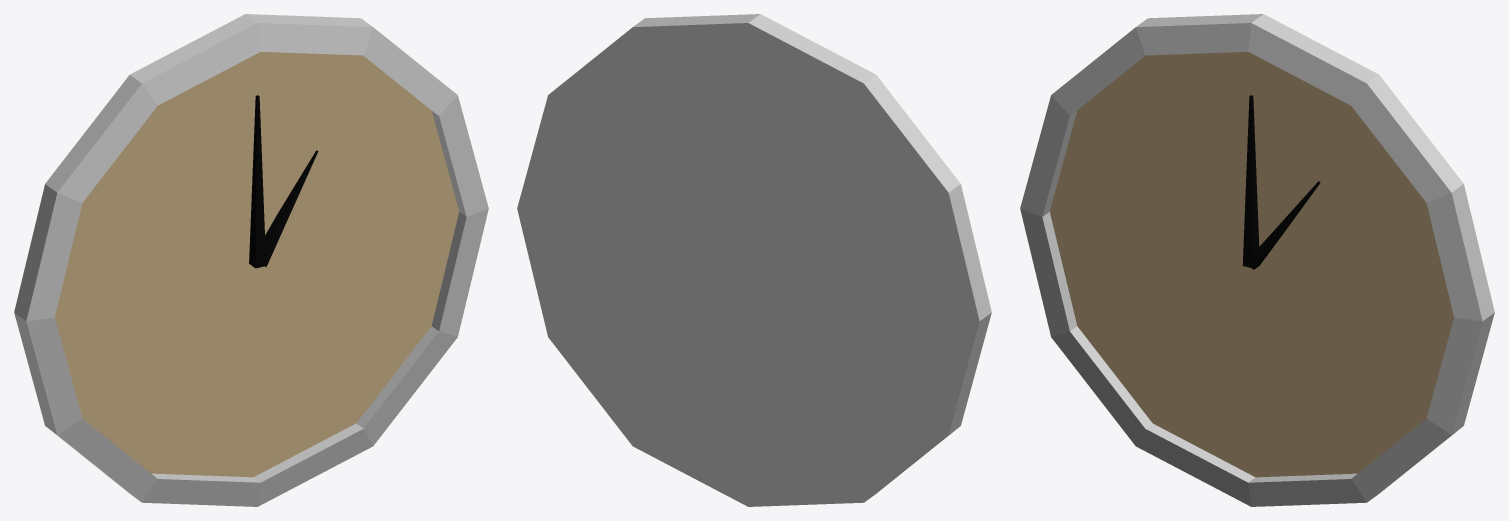
Rendered from Jam dinding.fbx.
The picture shows the model from 3 angles, left to right: view 1: azimuth 30°, elevation 25°; view 2: azimuth 150°, elevation 25°; view 3: azimuth 330°, elevation 25°; orthographic projection.
Parts seen in each view (by area): view 1: Circle, Cube, Cube.001; view 2: Circle; view 3: Circle, Cube, Cube.001.
Boxes of the visible parts, x1=… form: Circle: x1=14, y1=14, x2=488, y2=506; Cube: x1=249, y1=95, x2=266, y2=268; Cube.001: x1=258, y1=150, x2=318, y2=267; Circle: x1=517, y1=14, x2=991, y2=506; Circle: x1=1020, y1=14, x2=1494, y2=506; Cube: x1=1242, y1=95, x2=1259, y2=268; Cube.001: x1=1246, y1=181, x2=1320, y2=269.
Bounding box in the file's own units: 397 × 397 × 23.16.
